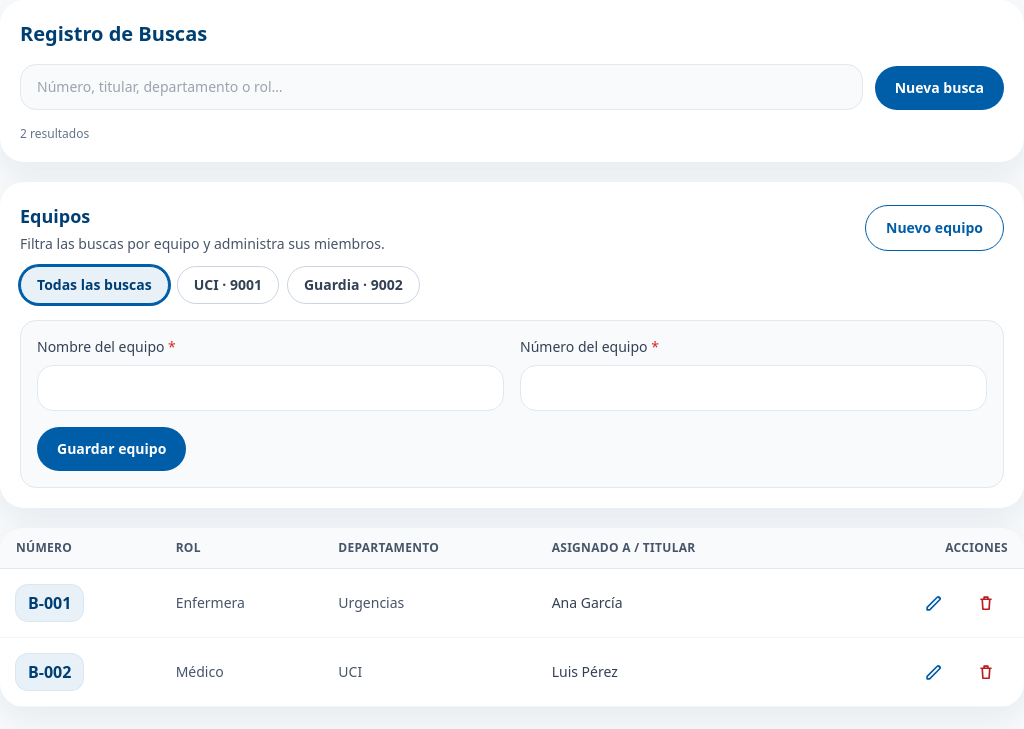
Scenario: BeepersPage › clears a membership error when selecting another team
Check: the text "B-001" is shown, box 16,585 -> 83,621
Step 1. Click the button "UCI · 9001" → click(228, 285), box 177,266 -> 279,304
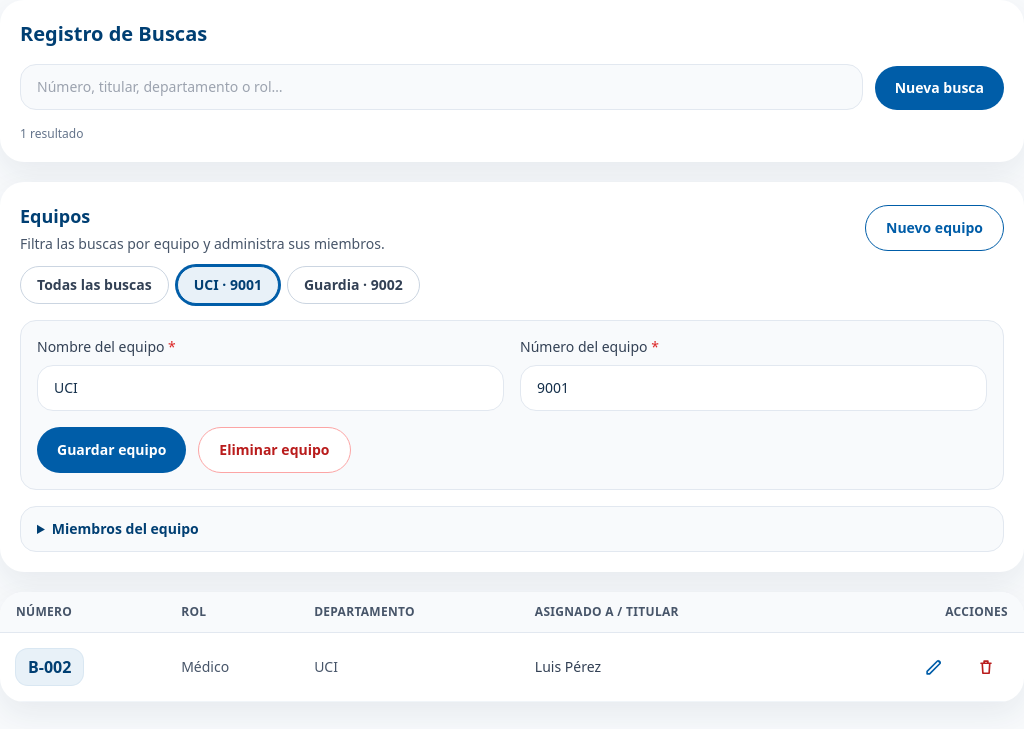
Step 2. Click the heading "Miembros del equipo" → click(125, 528), box 52,519 -> 199,538
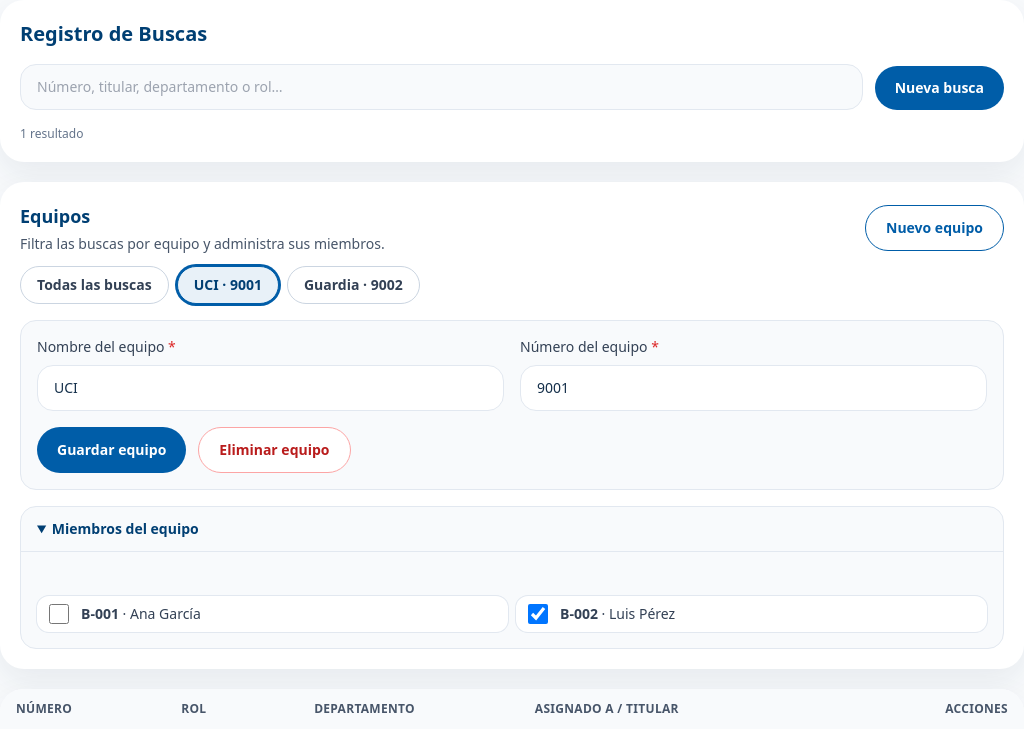
Step 3. Click the checkbox labelled "B-002 · Luis Pérez" → click(538, 614), box 528,604 -> 548,624
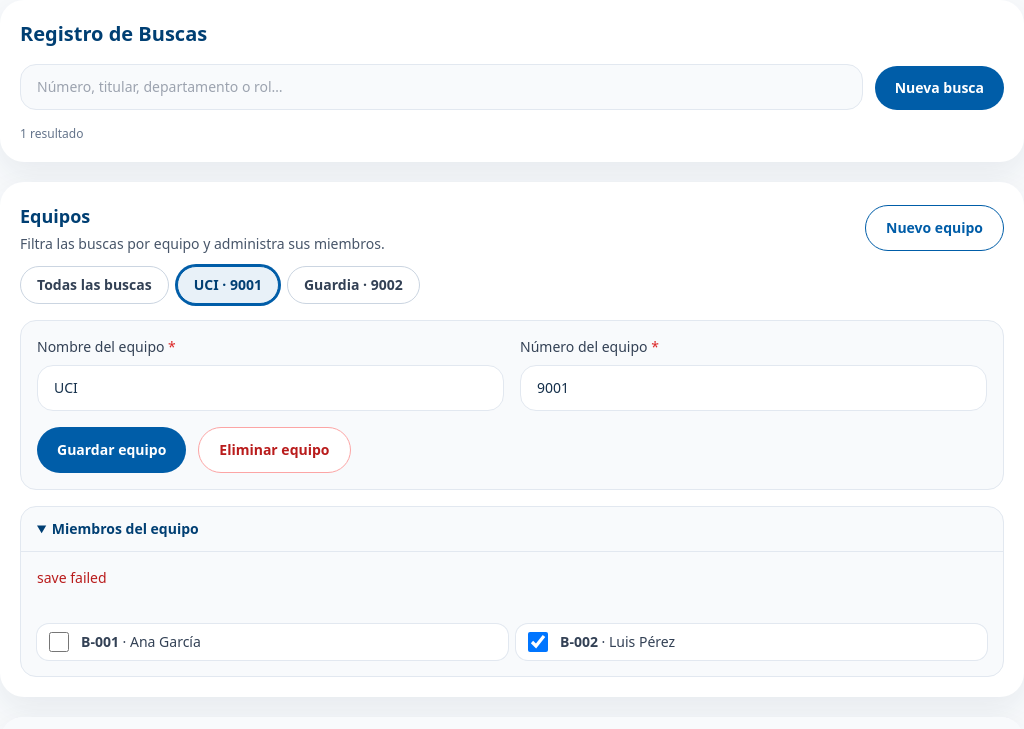
Check: the message "save failed" is shown, box 37,568 -> 107,587
Step 4. Click the button "Guardia · 9002" → click(353, 285), box 287,266 -> 420,304
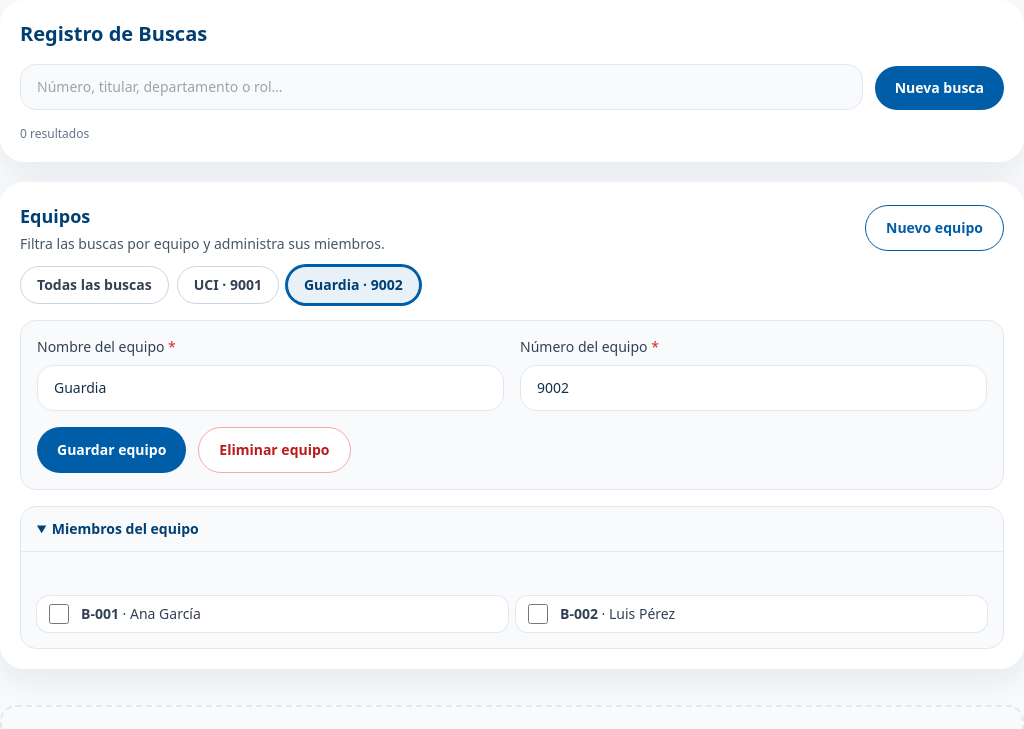
Check: the text "save failed" is gone
